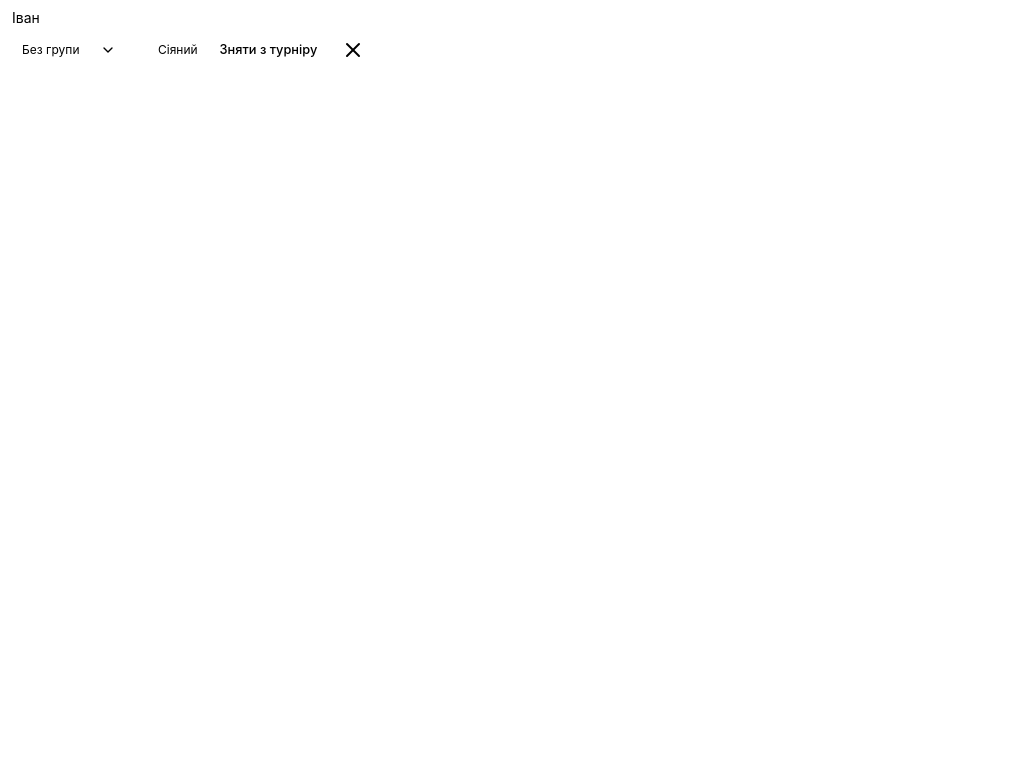
Test: TournamentRoster (per-participant controls) › withdraws a participant after confirming, closing the dialog and toasting on success
The image size is (1024, 768).
Click the button "Зняти з турніру": [268, 50] box [210,36,327,64]
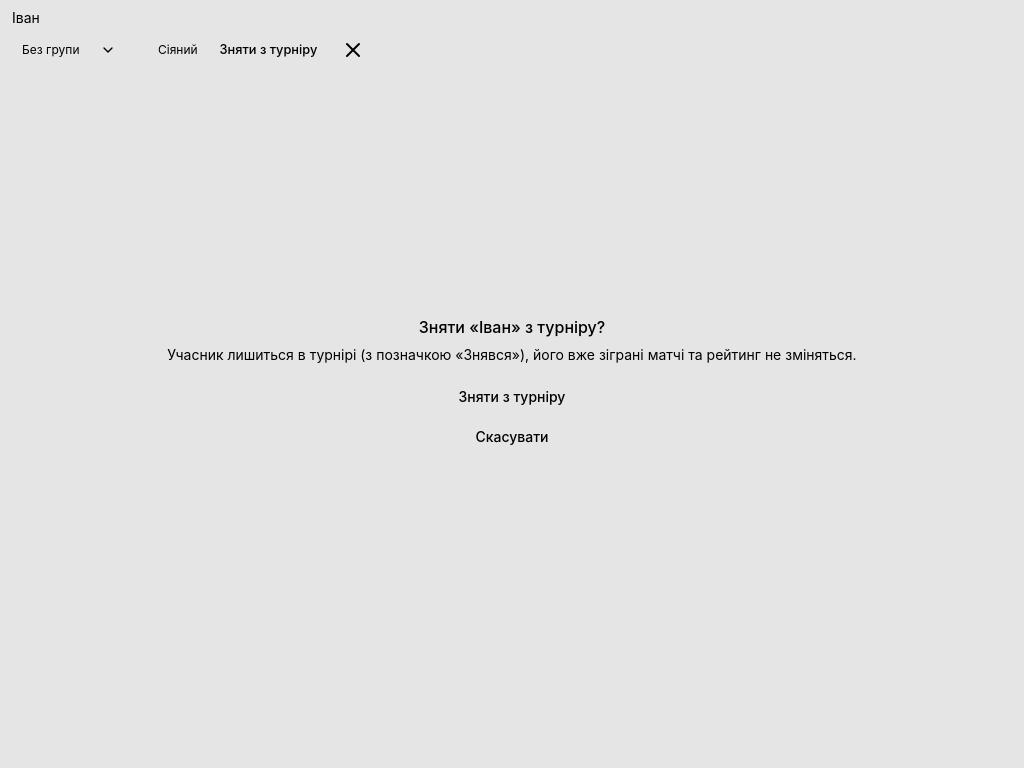
Click the button "Зняти з турніру": [512, 397] box [16,381,1008,413]
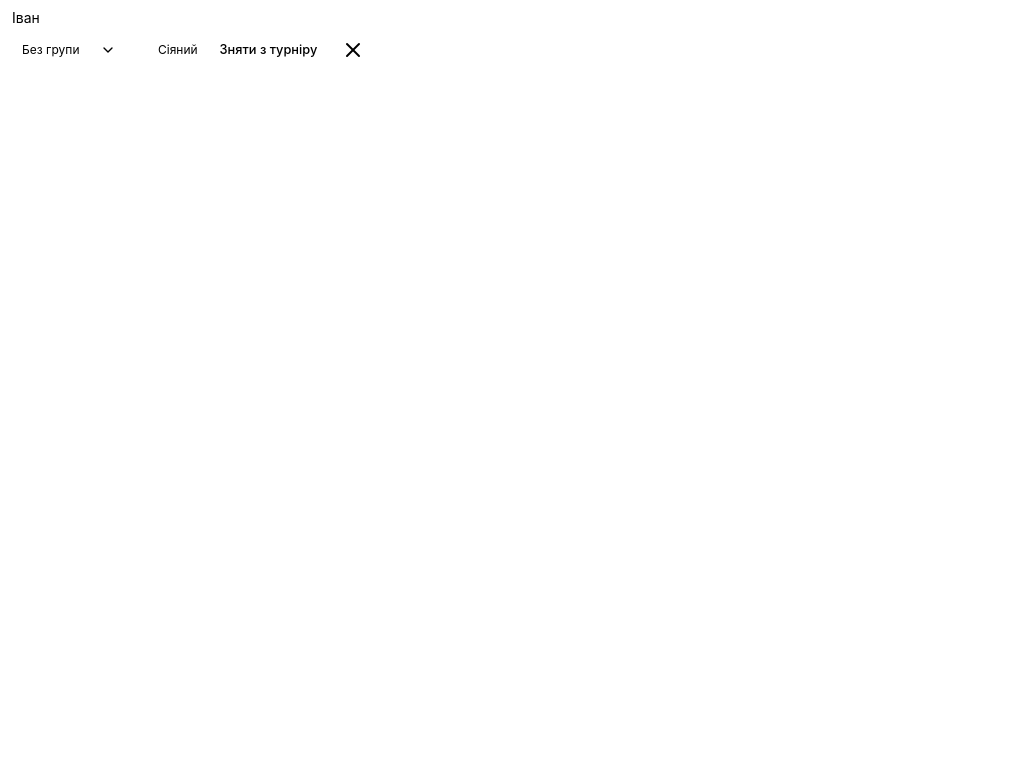
Expected: the dialog is gone
